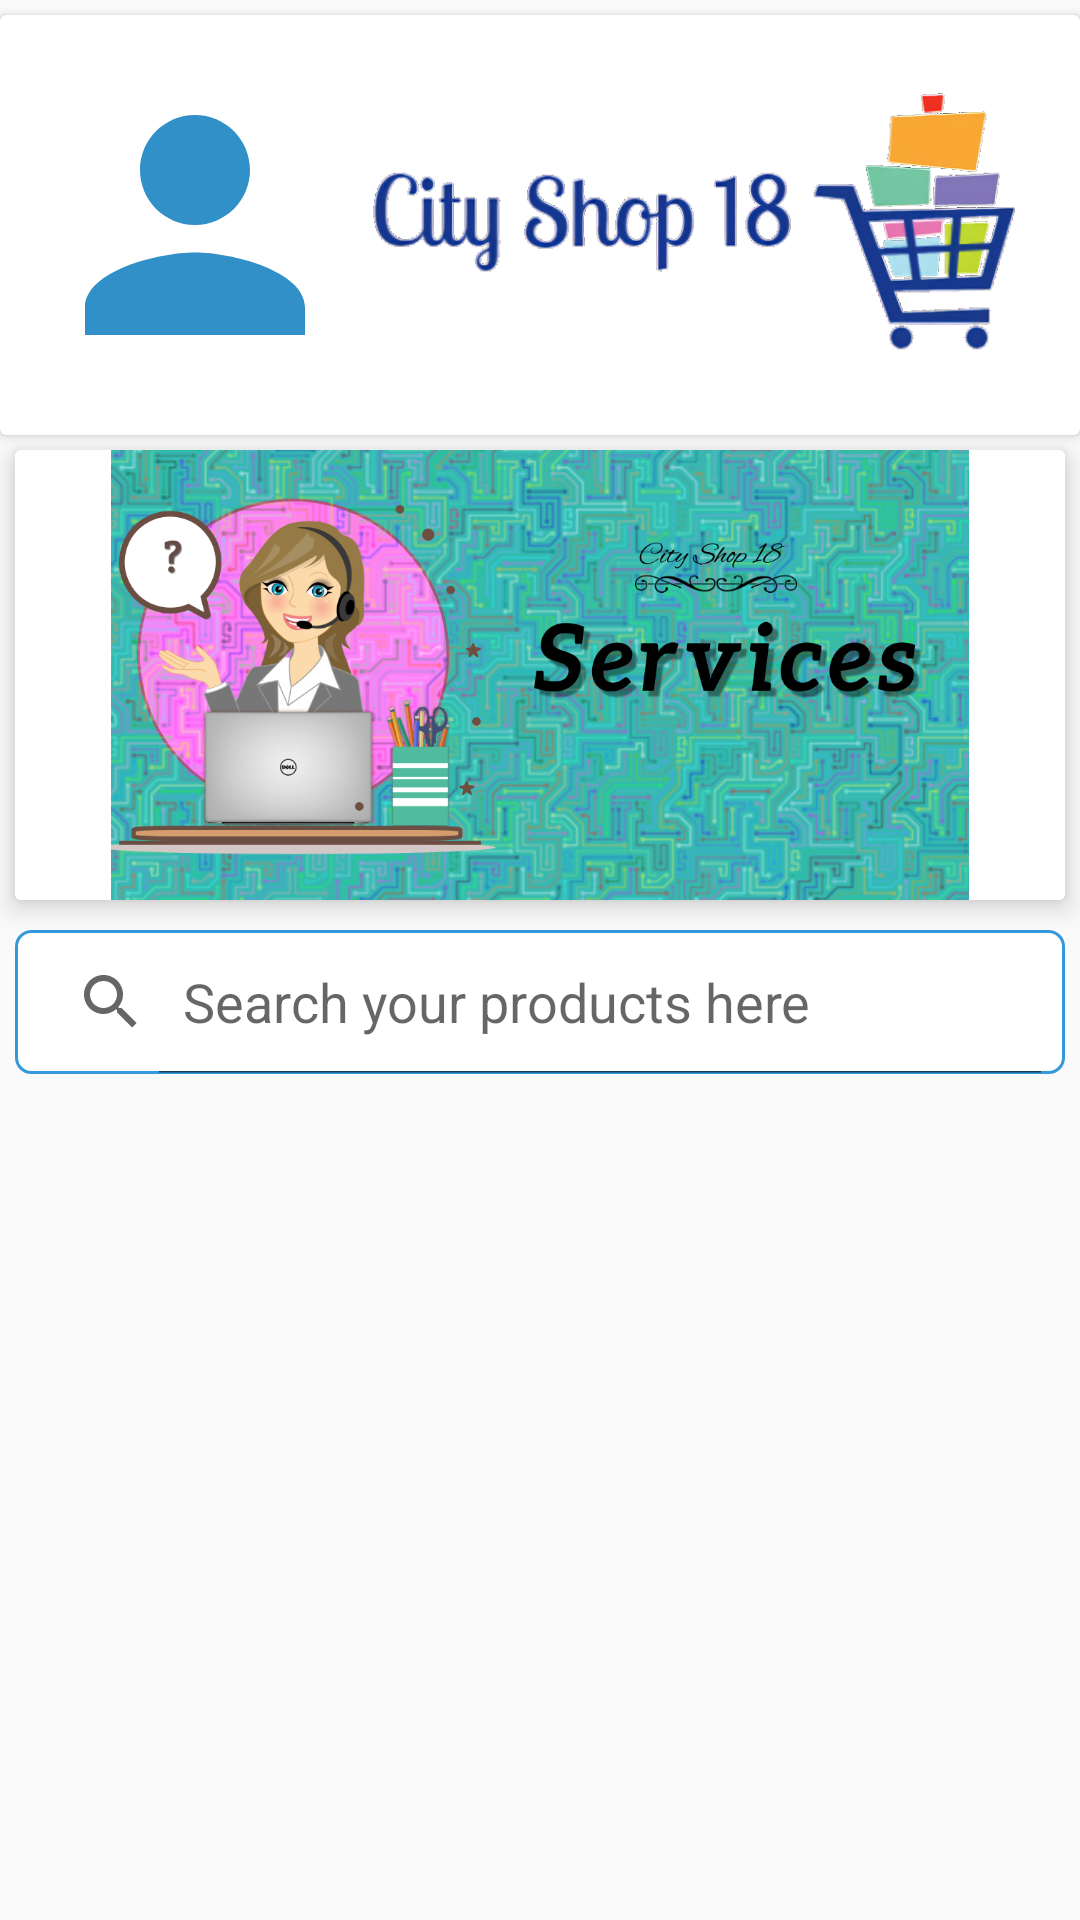

Where icons sit on this 1080w x 1920h app screen, as {"x1": x1, "y1": y1, "x2": x2, "y2": y2}:
person: {"x1": 85, "y1": 115, "x2": 305, "y2": 335}
